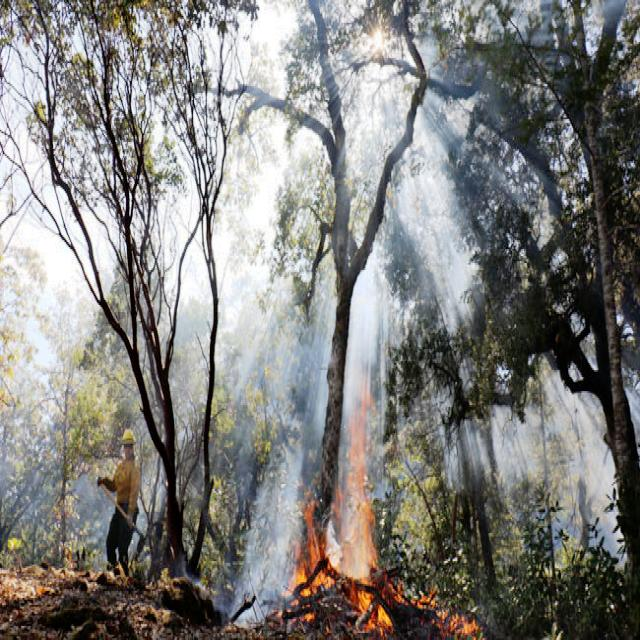api: (308, 540, 402, 626), (429, 589, 480, 639)
